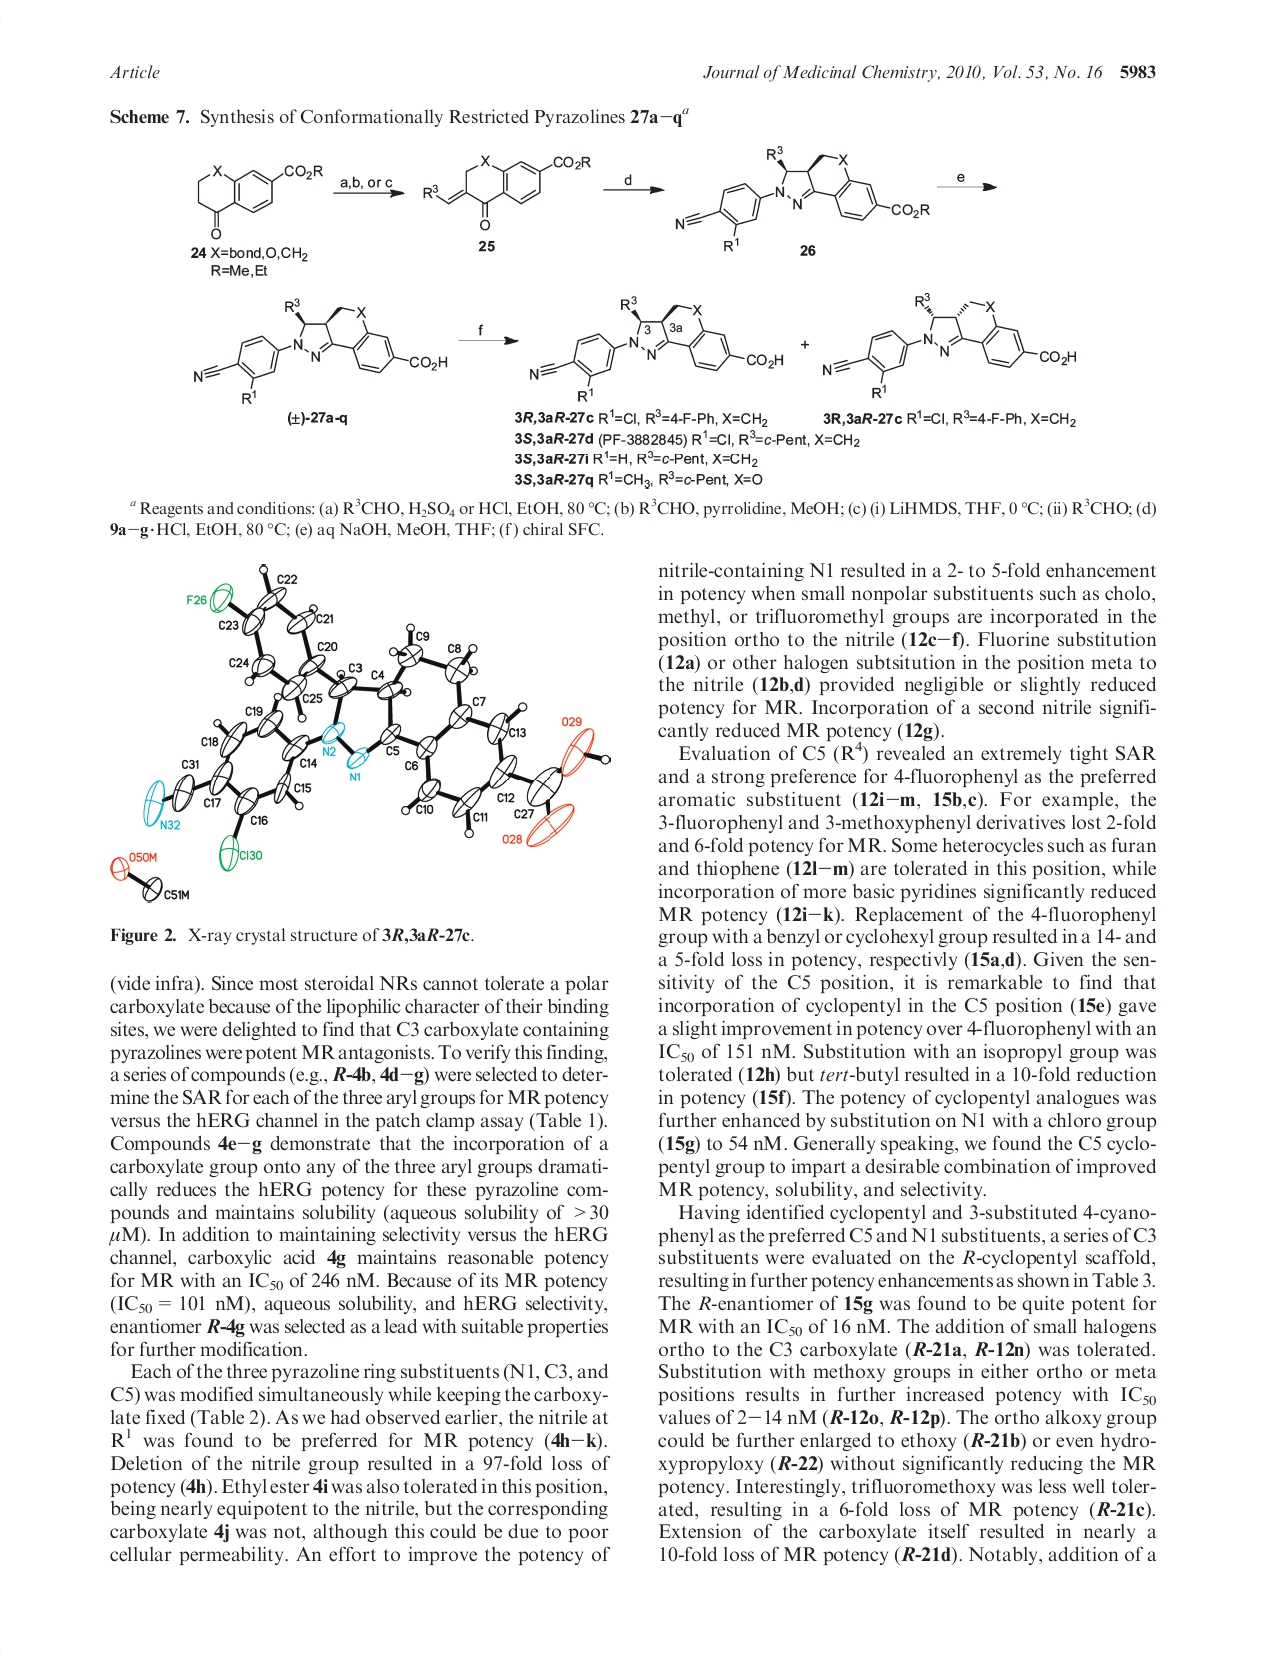exist_molecular: (191, 295, 452, 406), (527, 293, 785, 403), (821, 291, 1081, 400), (674, 144, 934, 253), (420, 153, 593, 231), (195, 162, 324, 242)
